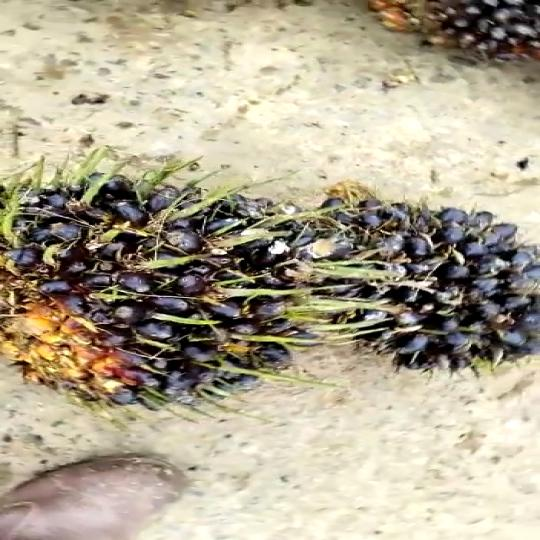mentah: (17, 163, 324, 398), (314, 187, 540, 385)
